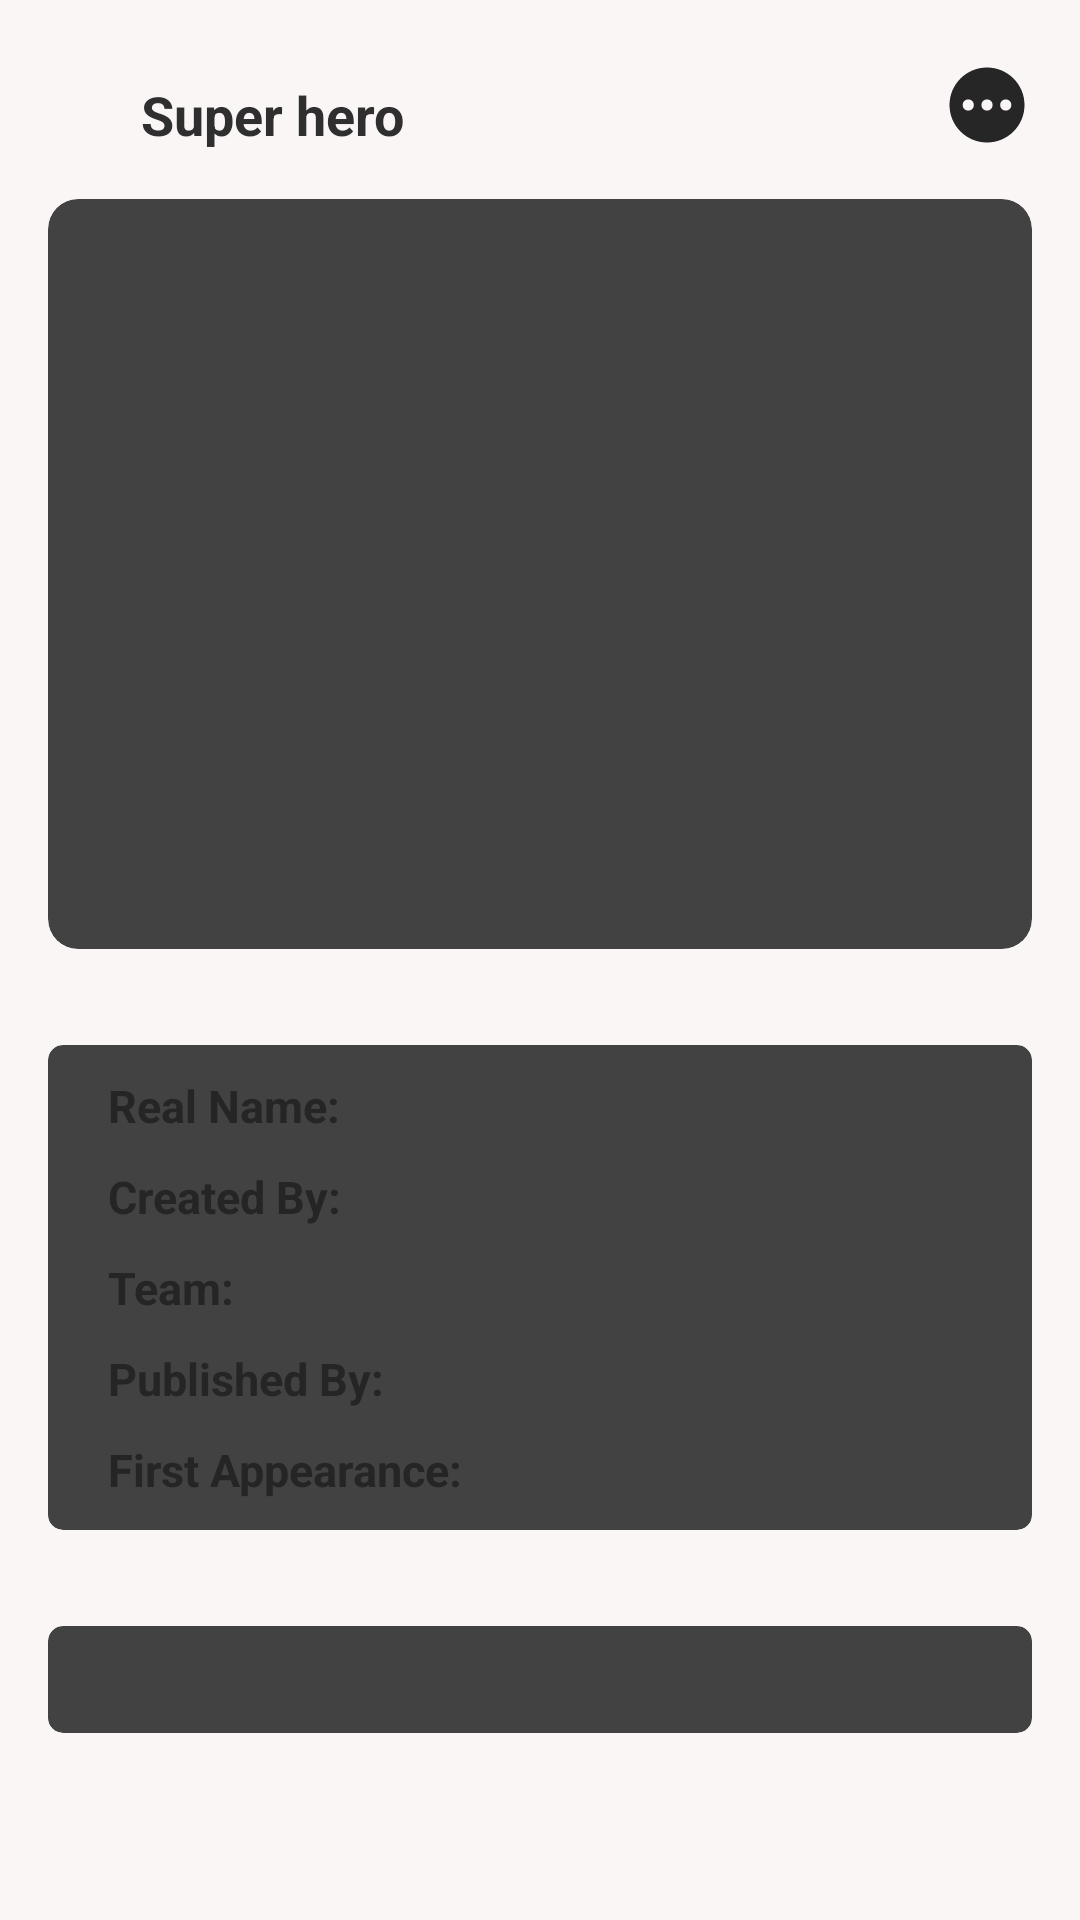

Screen size 1080×1920. Icon name, then its box in pixels as [left=x1, top=y1, right=x2, bottom=y2]:
pending: [left=949, top=67, right=1025, bottom=143]
